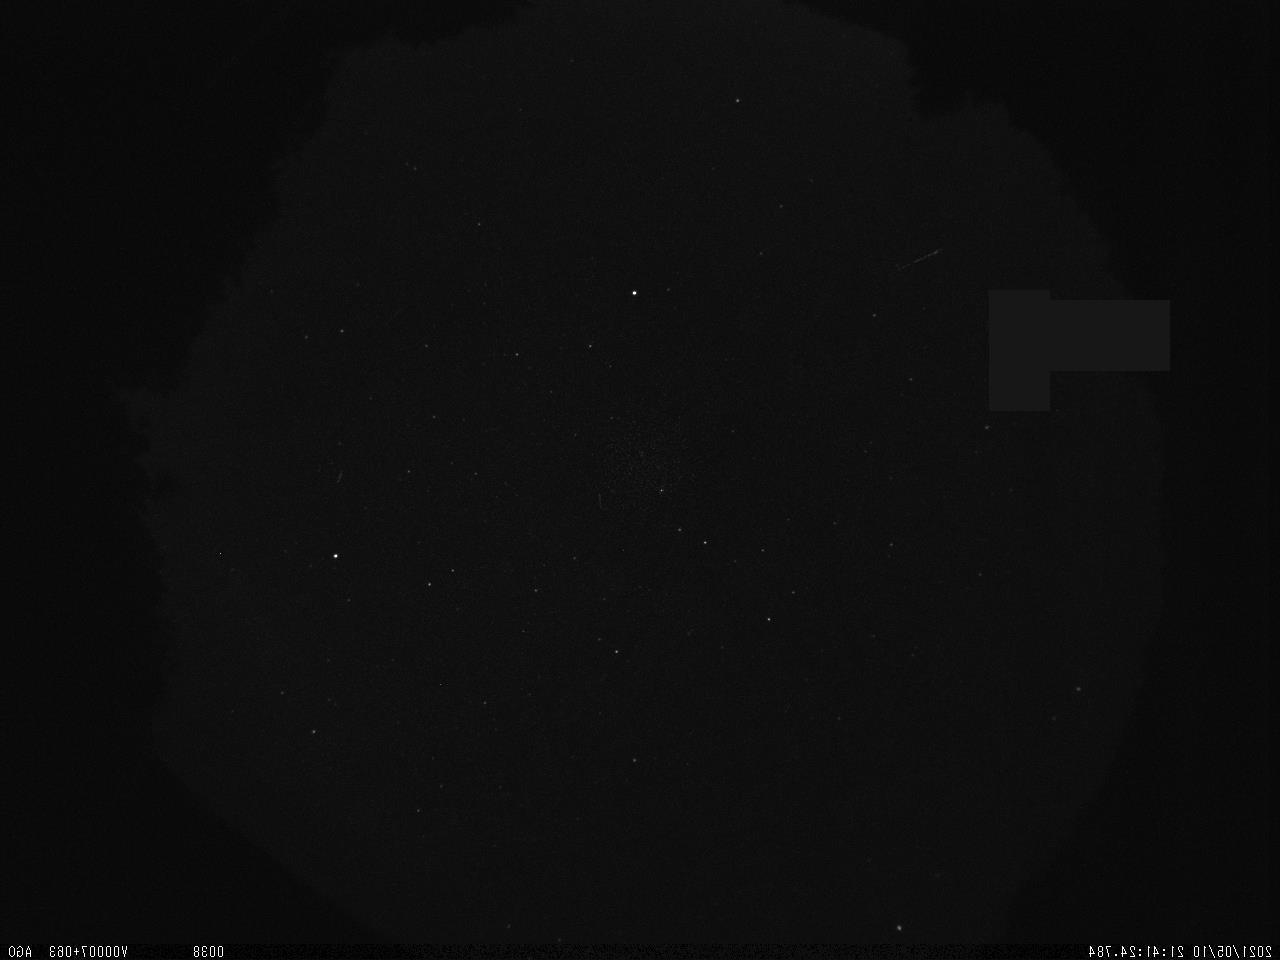meteor: (879, 240, 957, 280)
